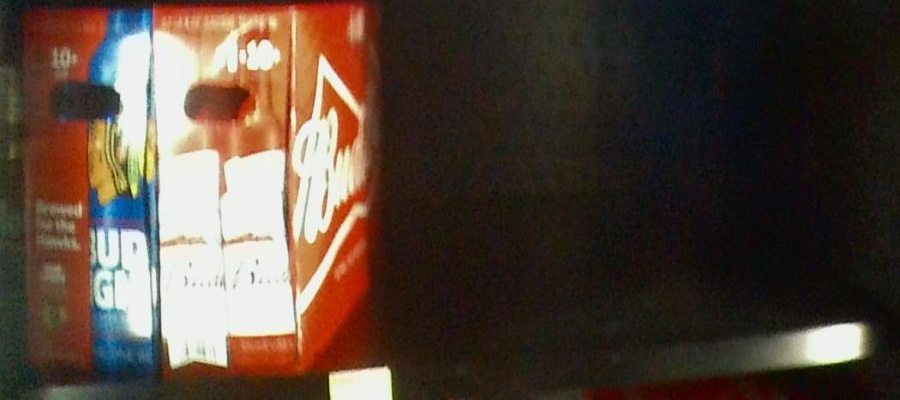bottle: (154, 1, 380, 371), (21, 3, 159, 380)
